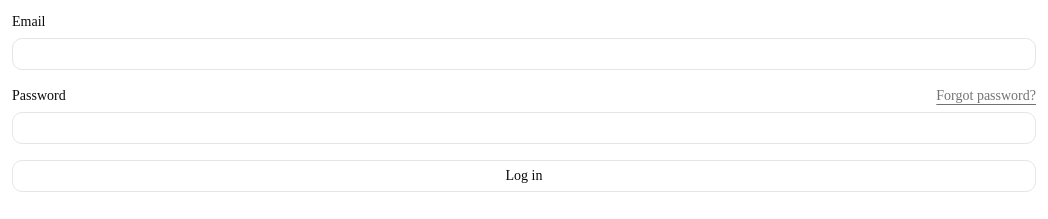
Test: LoginForm › shows a loading state on the submit button while pending
Type "person@example.com" into the field labelled "Email" at (524, 54), box [12,38,1036,70]
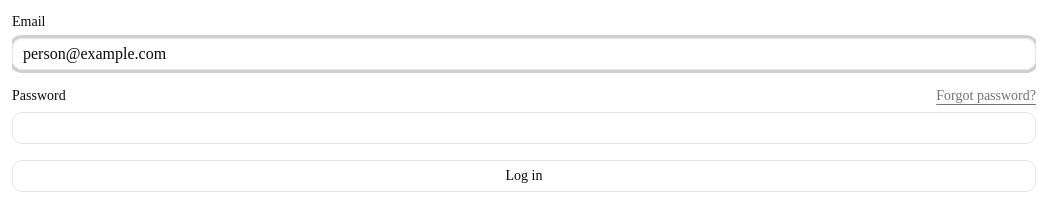
Type "hunter2hunter2" into the password field labelled "Password" at (524, 128), box [12,112,1036,144]
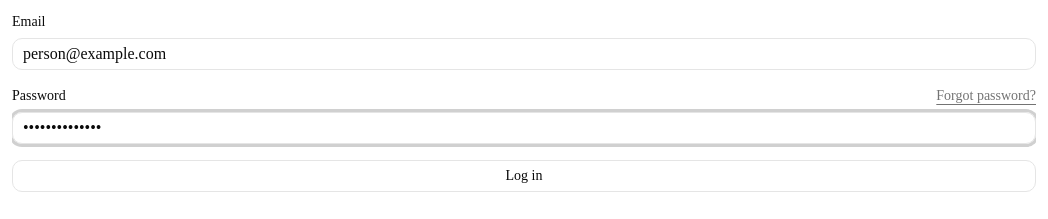
Click the button "Log in" at (524, 176), box [12,160,1036,192]
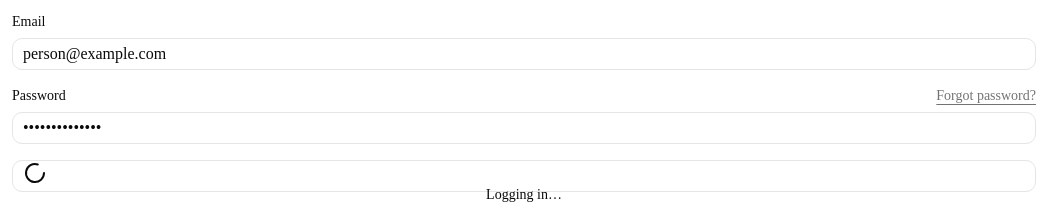
Now the button "Logging in…" is disabled, box [12,160,1036,192]
